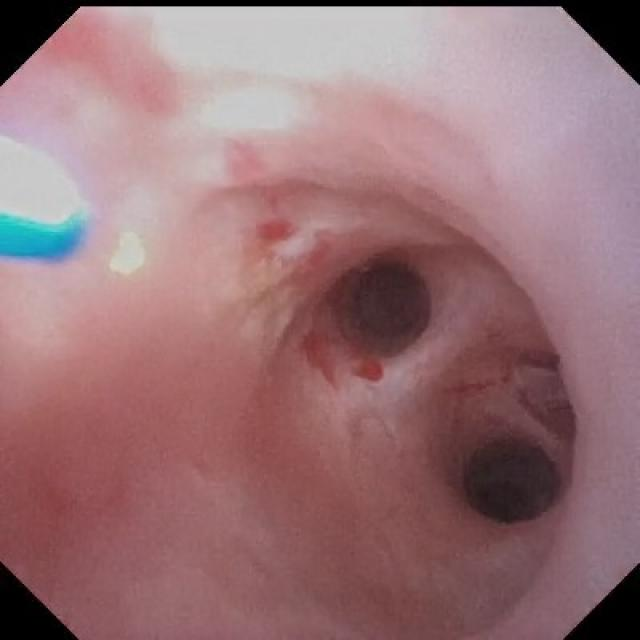laser-fibre: (86, 224, 146, 275)
